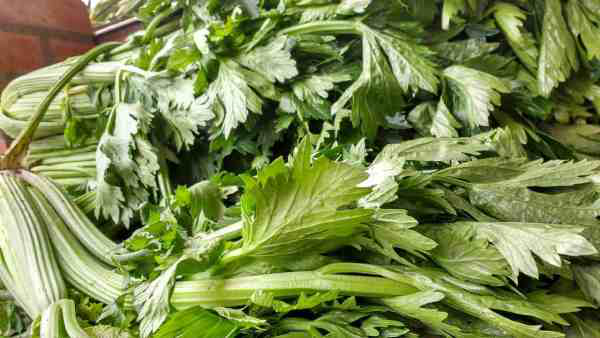Seledri: (100, 25, 525, 312)
